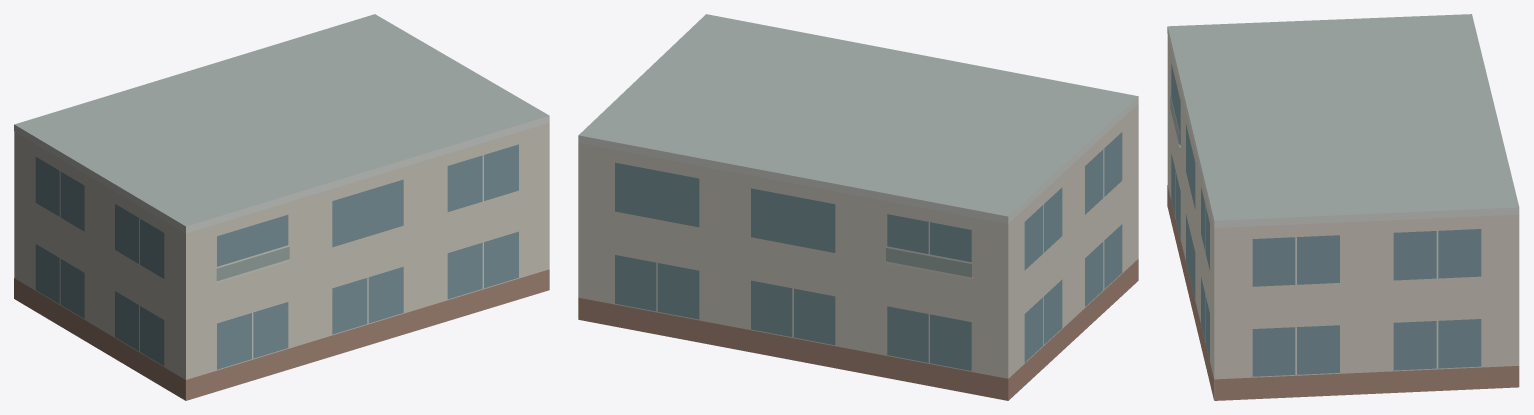
Rendered from survey-upis-32934652.glb.
The picture shows the model from 3 angles, left to right: view 1: azimuth 30°, elevation 25°; view 2: azimuth 150°, elevation 25°; view 3: azimuth 270°, elevation 25°; orthographic projection. The views are drawn at different scales.
Parts seen in each view (by area): view 1: survey-upis-32934652.tmp; view 2: survey-upis-32934652.tmp; view 3: survey-upis-32934652.tmp.
Part boxes in pixels (bbox=[...]): survey-upis-32934652.tmp: bbox=[14, 14, 549, 400]; survey-upis-32934652.tmp: bbox=[578, 14, 1138, 400]; survey-upis-32934652.tmp: bbox=[1167, 14, 1519, 400].
Bounding box in the file's own units: 15.04 × 6.1 × 10.81.
